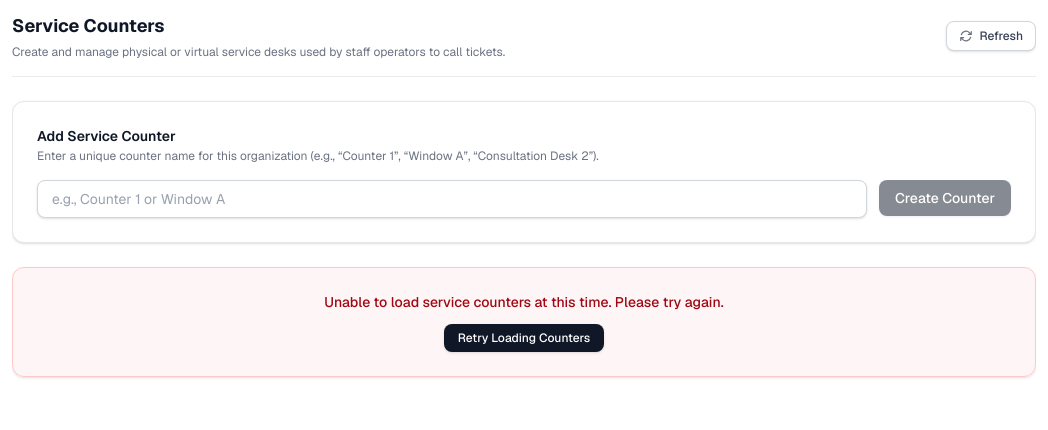
Test: components/admin/CounterManagement › Initial counter fetching and loading states › retries fetching when the retry button is clicked
Click the button "Retry Loading Counters".
click(524, 338)  # box x1=444 y1=324 x2=604 y2=352
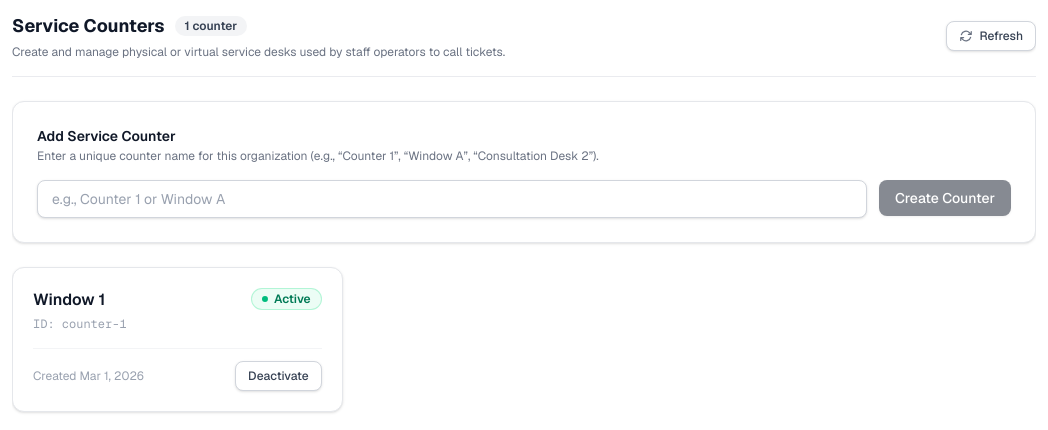
Now the heading "Window 1" is shown, box x1=33 y1=289 x2=105 y2=310
Now the text "Unable to load service counters at this time. Please try again." is gone
